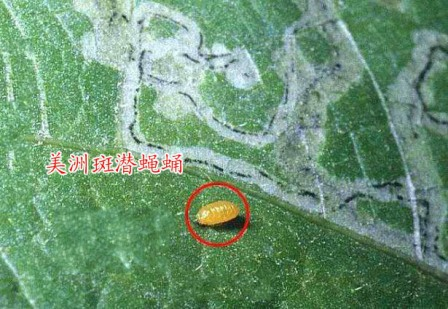liriomyza: (68, 1, 448, 274), (194, 197, 241, 226)
